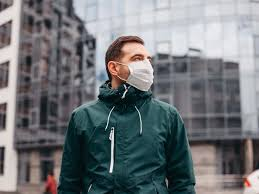mask: (104, 37, 158, 96)
